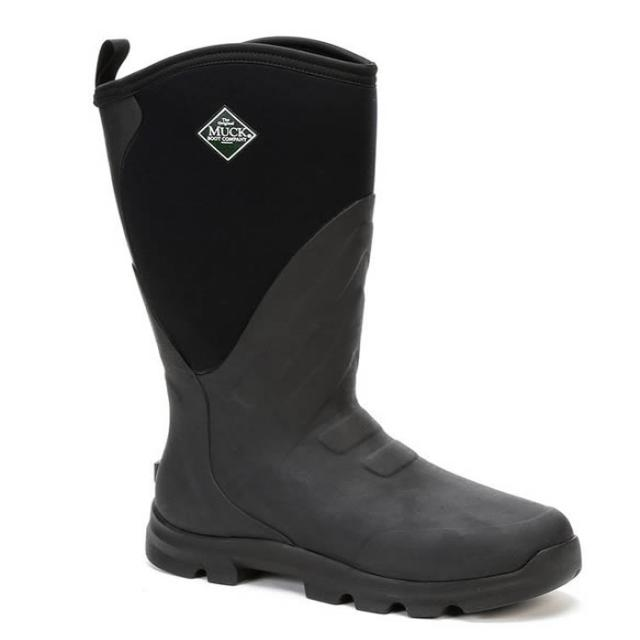boot: (41, 20, 607, 622)
